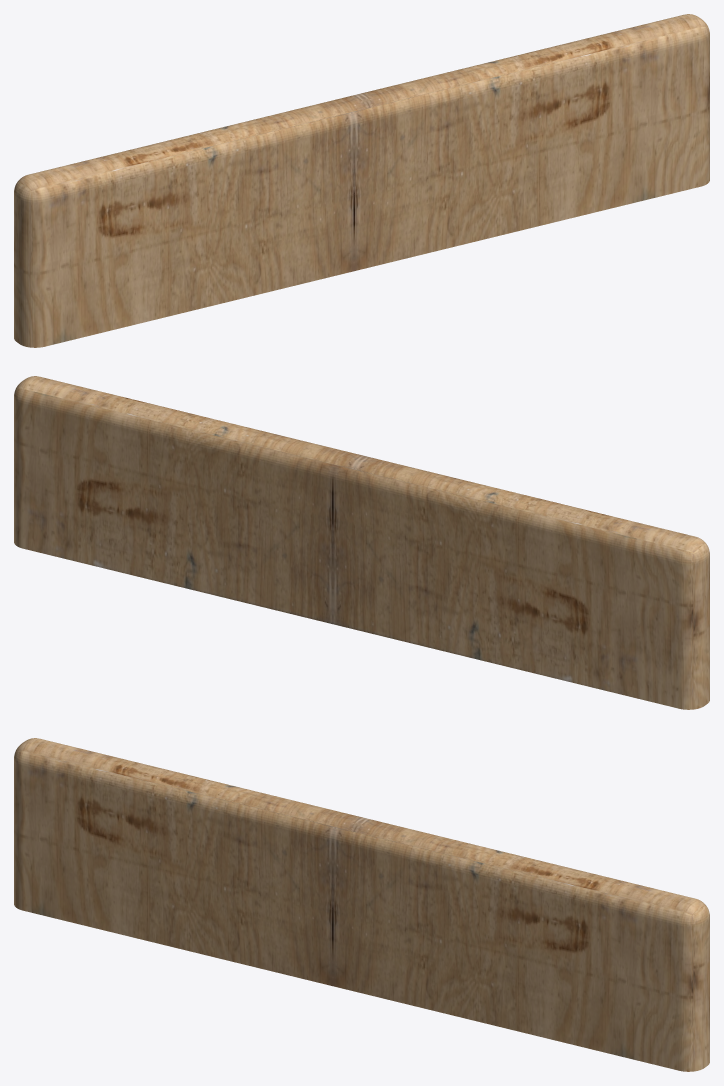
The model's file is rail_central.fbx.
3 views of the same model, one above another, from view 1: azimuth 30°, elevation 25°; view 2: azimuth 150°, elevation 25°; view 3: azimuth 330°, elevation 25° (orthographic).
Parts seen in each view (by area): view 1: rail_central; view 2: rail_central; view 3: rail_central.
Boxes of the visible parts, <box> form: rail_central: <box>14,14,709,347</box>; rail_central: <box>14,376,709,709</box>; rail_central: <box>14,738,709,1071</box>.
Size of the model in its own units: 400 by 90 by 21.45.
